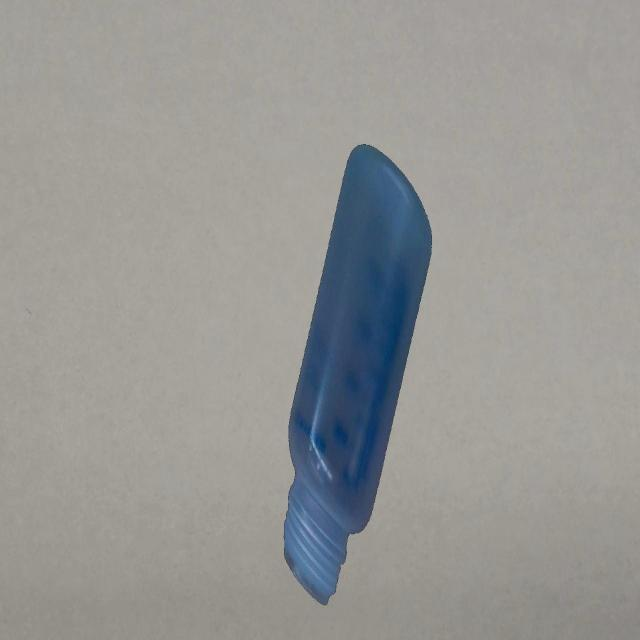bottle: (282, 140, 434, 610)
